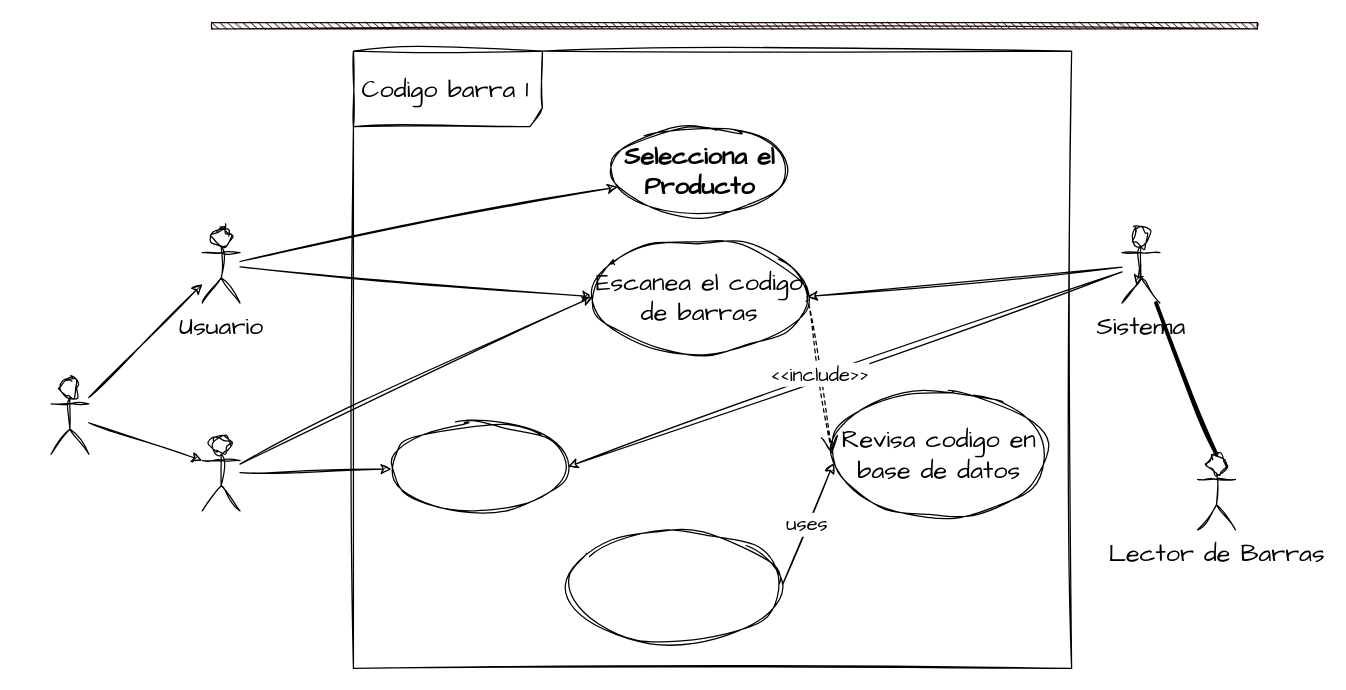
Some shapes in this 1346 by 690 pixel diagram are drawn without their labels. The centre of each missing label's shape, as x and y in pixels:
"Administrador" belongs at pixel 220 472.
"LogIn" belongs at pixel 479 466.
"Muestra el precio del producto" belongs at pixel 674 586.
"Persona" belongs at pixel 69 415.
